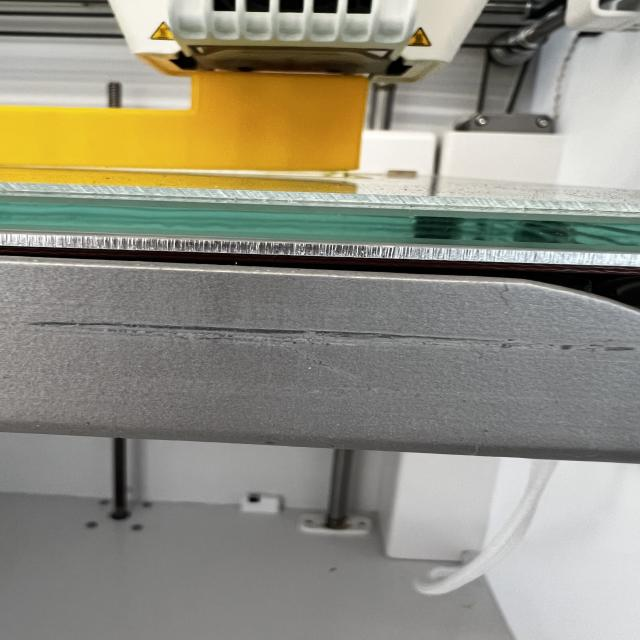Warping: (166, 161, 276, 182), (268, 161, 370, 182)
